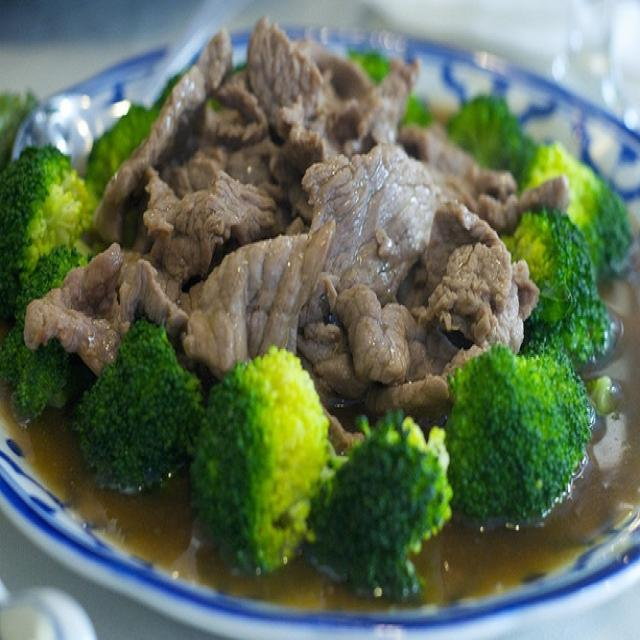牛肉菜式: (23, 16, 616, 588)
